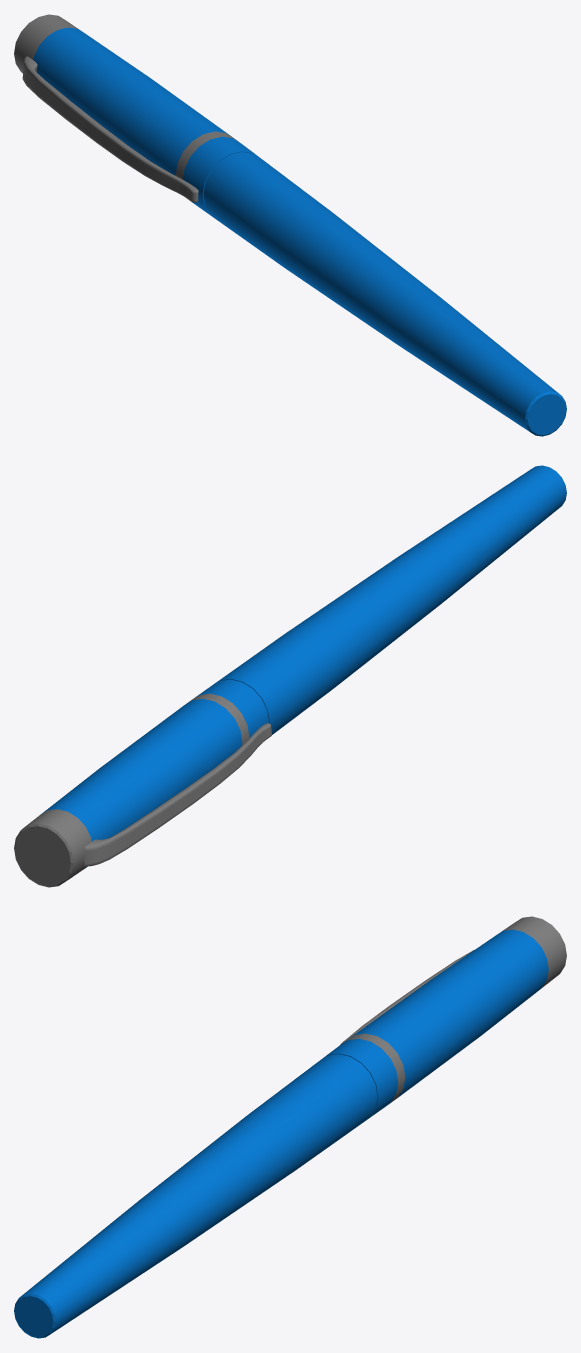
Rendered from Pen 1.FBX.
3 views of the same model, one above another, from view 1: azimuth 30°, elevation 25°; view 2: azimuth 150°, elevation 25°; view 3: azimuth 330°, elevation 25° (orthographic).
Parts seen in each view (by area): view 1: pen 1; view 2: pen 1; view 3: pen 1.
Part boxes in pixels (<box>): pen 1: <box>14,14,566,436</box>; pen 1: <box>14,465,566,887</box>; pen 1: <box>14,916,566,1338</box>.
Bounding box in the file's own units: 1.42 × 1.13 × 15.01.
Materials: 1 (1 with a texture image).
